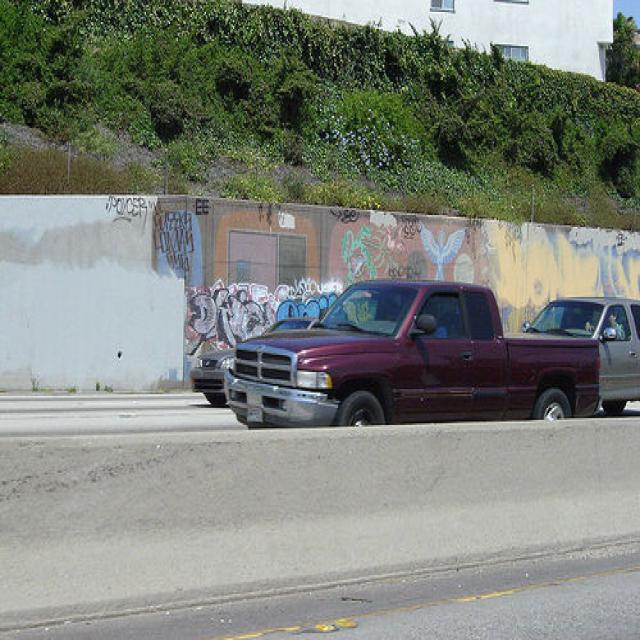car: (224, 278, 601, 430), (503, 296, 640, 414), (192, 319, 324, 411)
